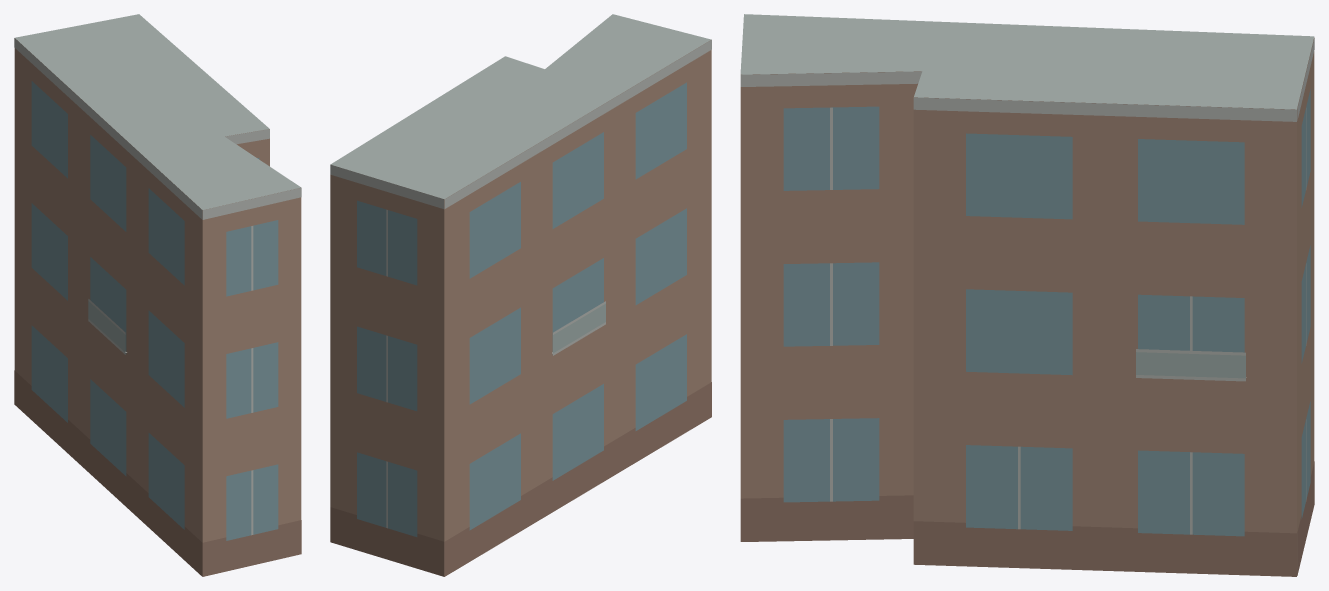
Rendered from survey-upis-32906933.glb.
The picture shows the model from 3 angles, left to right: view 1: azimuth 30°, elevation 25°; view 2: azimuth 150°, elevation 25°; view 3: azimuth 270°, elevation 25°; orthographic projection. The views are drawn at different scales.
Parts seen in each view (by area): view 1: survey-upis-32906933.tmp; view 2: survey-upis-32906933.tmp; view 3: survey-upis-32906933.tmp.
Part boxes in pixels (x1,y1,x2,y2): survey-upis-32906933.tmp: (14,14,301,576); survey-upis-32906933.tmp: (330,14,711,576); survey-upis-32906933.tmp: (740,14,1314,576).
Size of the model in its own units: 4.02 by 9.15 by 10.2.
